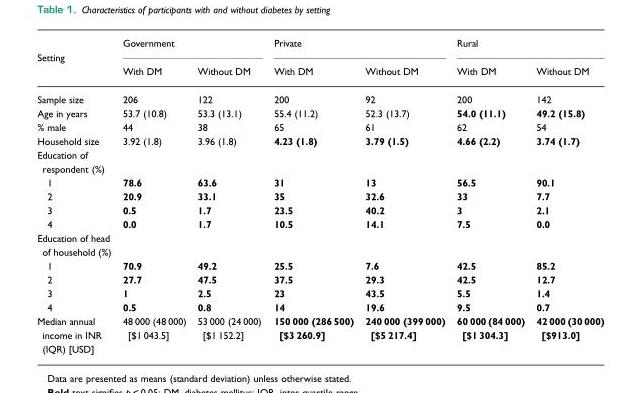table: (36, 36, 603, 354)
table column: (266, 36, 358, 354), (358, 36, 450, 354), (36, 36, 116, 354), (450, 36, 529, 354), (116, 36, 191, 354), (191, 36, 266, 354), (529, 36, 603, 354)
table column header: (36, 36, 603, 84)
table projected row header: (36, 147, 603, 175), (36, 230, 603, 258)
table row: (36, 313, 603, 354), (36, 147, 603, 175), (36, 230, 603, 258), (36, 36, 603, 63), (36, 63, 603, 84), (36, 84, 603, 105), (36, 105, 603, 119), (36, 119, 603, 133), (36, 133, 603, 147), (36, 188, 603, 202), (36, 202, 603, 216), (36, 216, 603, 230), (36, 258, 603, 272), (36, 285, 603, 299), (36, 299, 603, 313), (36, 175, 603, 188), (36, 272, 603, 285)
table spanning cell: (266, 36, 450, 63), (450, 36, 603, 63), (116, 36, 266, 63), (36, 36, 116, 84)
